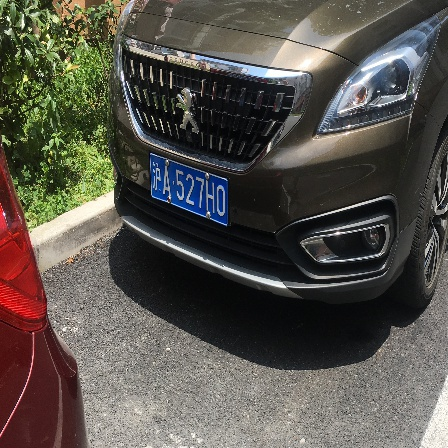plate: (147, 153, 230, 229)
